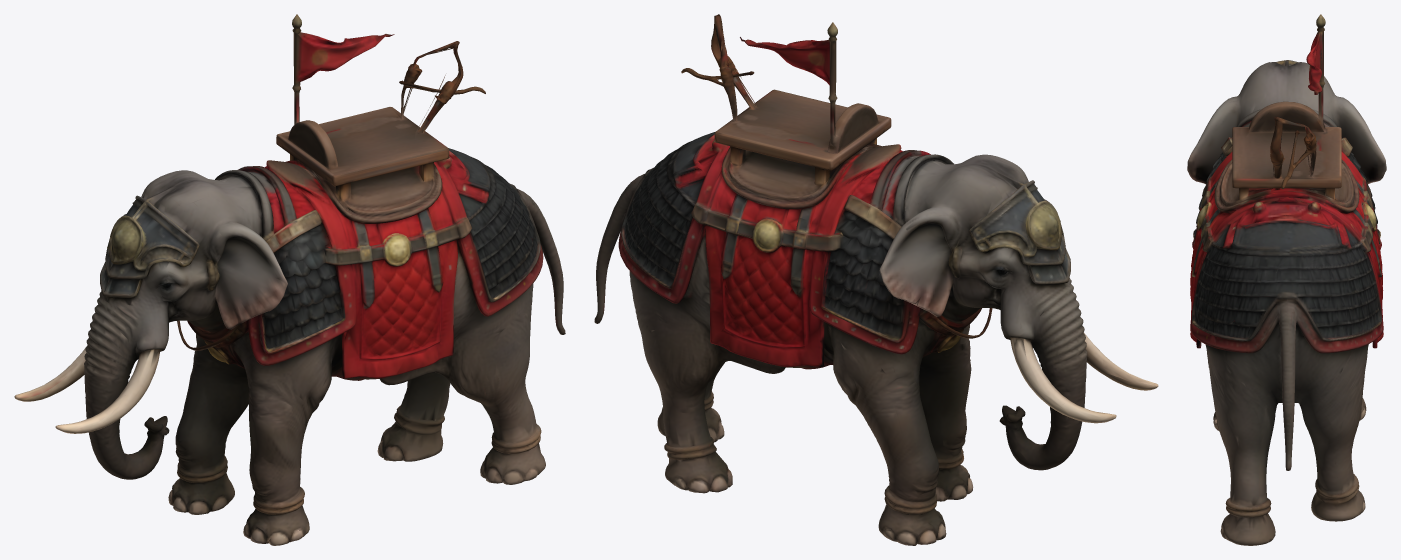
The model's file is elephant-red-hy3-v1.glb.
3 views of the same model, side by side, from view 1: azimuth 30°, elevation 25°; view 2: azimuth 150°, elevation 25°; view 3: azimuth 270°, elevation 25° (orthographic). The views are drawn at different scales.
Visible parts, largest first — view 1: node_0; view 2: node_0; view 3: node_0.
Boxes of the visible parts, x1,y1,x2,y2 form: node_0: [14, 14, 565, 545]; node_0: [594, 14, 1158, 545]; node_0: [1187, 14, 1386, 545].
Bounding box in the file's own units: 2.81 × 2.4 × 0.9823.
1 material, 1 textured.
